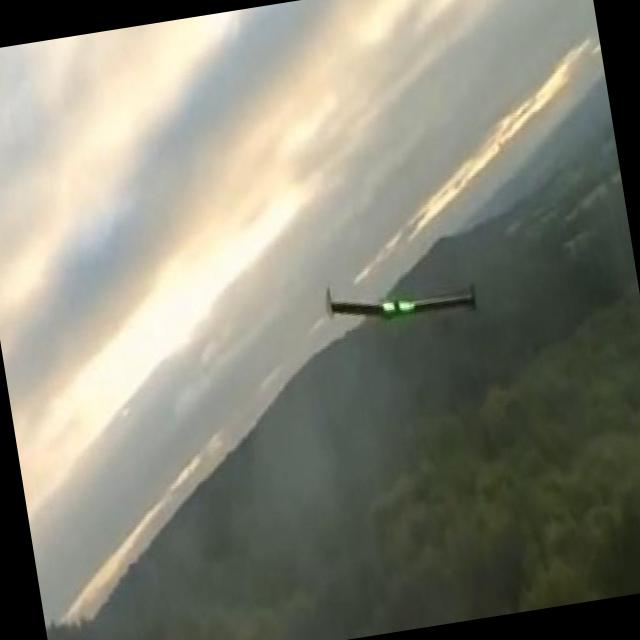UAV: (311, 235, 518, 352)
